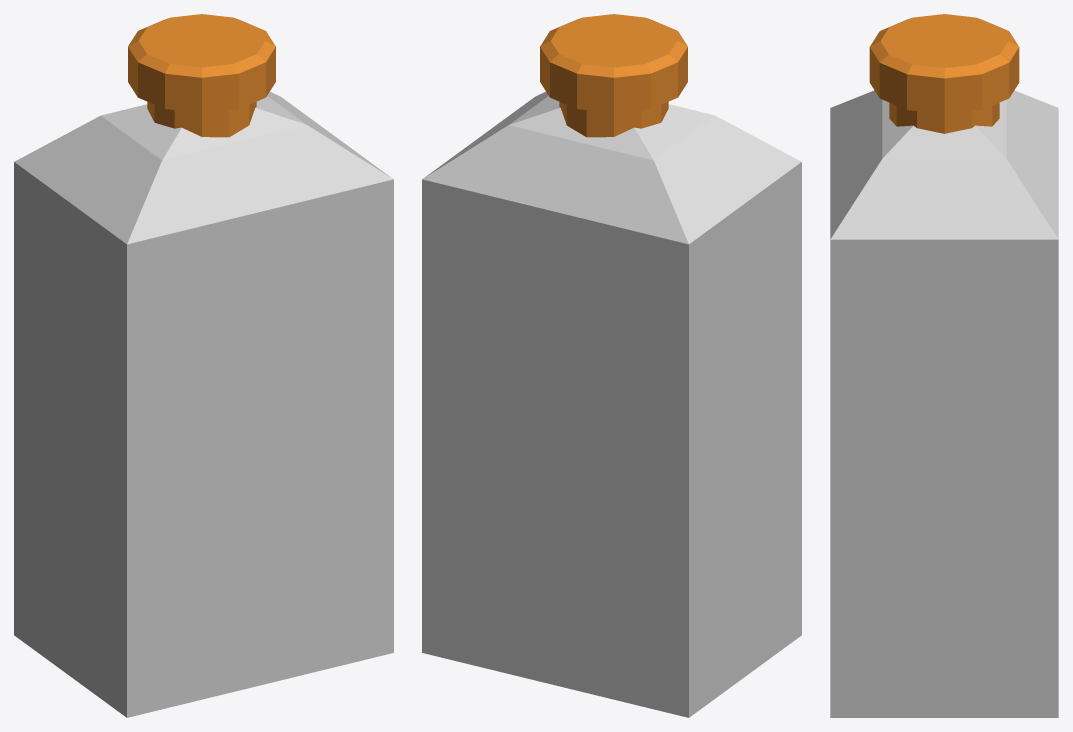
The model's file is plastic_bottle.fbx.
3 renders of one model, left to right at view 1: azimuth 30°, elevation 25°; view 2: azimuth 150°, elevation 25°; view 3: azimuth 270°, elevation 25°, orthographic.
Visible parts, largest first — view 1: Cube.015, Cylinder.003; view 2: Cube.015, Cylinder.003; view 3: Cube.015, Cylinder.003.
Boxes of the visible parts, left/top/right/bottom form: Cube.015: left=14, top=91, right=393, bottom=717; Cylinder.003: left=128, top=14, right=275, bottom=137; Cube.015: left=422, top=91, right=801, bottom=717; Cylinder.003: left=540, top=14, right=687, bottom=137; Cube.015: left=830, top=90, right=1058, bottom=717; Cylinder.003: left=869, top=14, right=1019, bottom=133.
Bounding box in the file's own units: 31.4 × 67.91 × 23.01.
